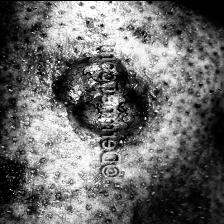Potentially Malignant Skin Tumors: (47, 55, 147, 135)
